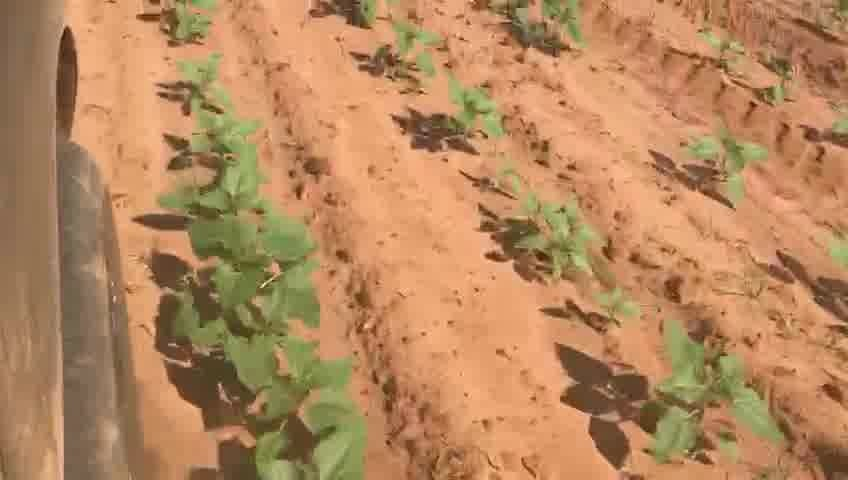sunflower: (651, 320, 787, 464), (162, 261, 323, 365), (185, 211, 323, 323), (224, 389, 375, 479), (227, 328, 359, 395), (160, 155, 273, 232), (682, 113, 768, 210), (514, 194, 605, 284), (439, 72, 505, 154), (170, 112, 257, 173), (167, 55, 241, 114), (510, 3, 591, 56), (388, 19, 444, 81), (578, 284, 646, 331), (693, 24, 747, 73), (163, 5, 218, 53), (760, 60, 804, 111), (478, 156, 526, 199)
